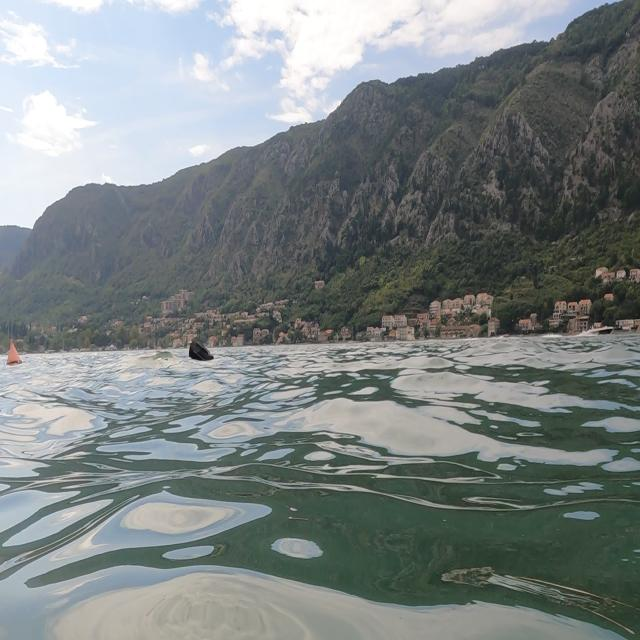buoy: (182, 338, 222, 376), (4, 336, 32, 378)
